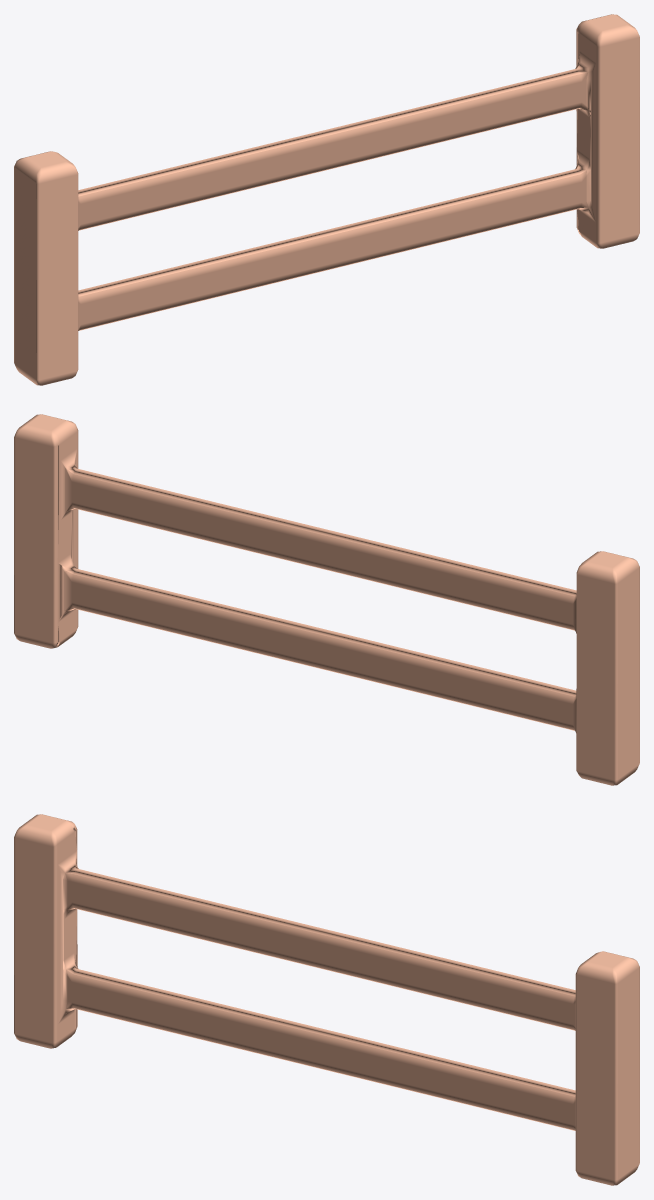
File: fence_simple.glb
3 views of the same model, one above another, from view 1: azimuth 30°, elevation 25°; view 2: azimuth 150°, elevation 25°; view 3: azimuth 330°, elevation 25° (orthographic).
Parts seen in each view (by area): view 1: fence_simple; view 2: fence_simple; view 3: fence_simple.
Boxes of the visible parts, x1=… form: fence_simple: x1=14, y1=14, x2=639, y2=385; fence_simple: x1=14, y1=414, x2=639, y2=785; fence_simple: x1=14, y1=814, x2=639, y2=1185.
Bounding box in the file's own units: 1 × 0.345 × 0.07.
